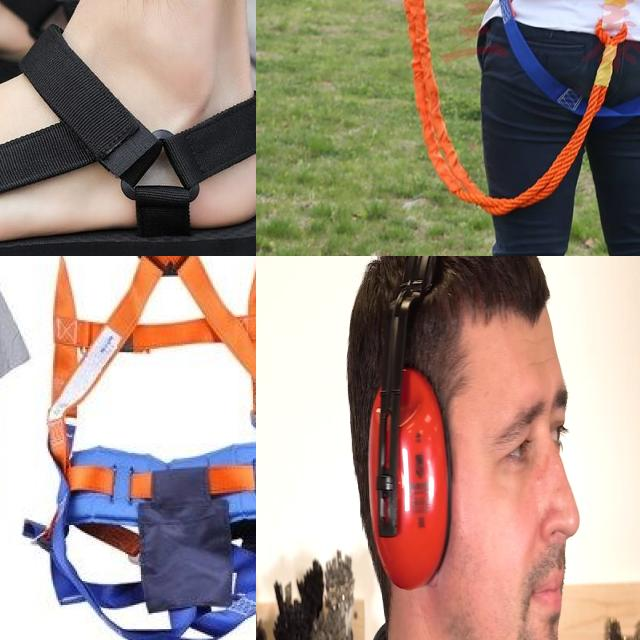Ear-protection: (346, 256, 591, 640)
Harness: (38, 256, 256, 640), (484, 0, 640, 127)
No_Glasses: (473, 359, 575, 487)
Sandals: (0, 0, 256, 256)
